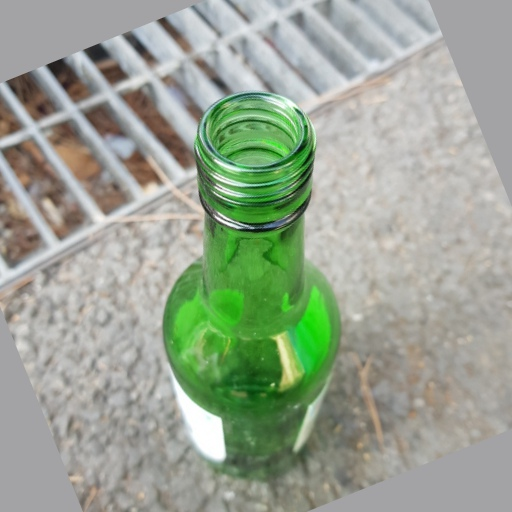Glass_0: (155, 90, 343, 472)
